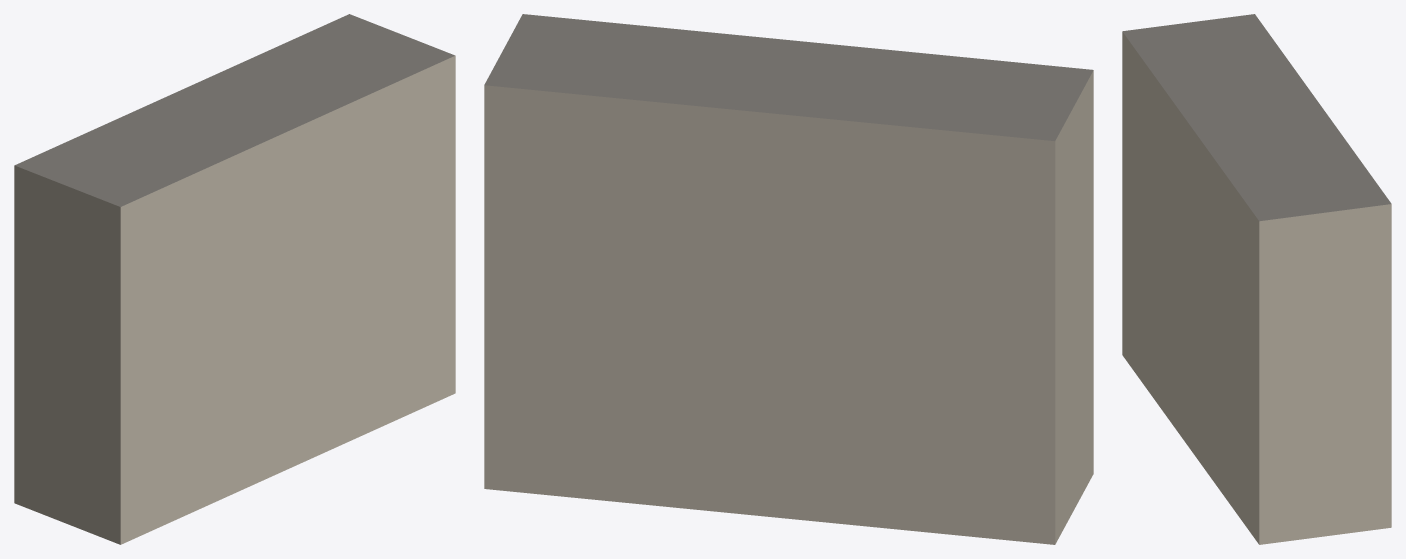
The picture shows the model from 3 angles, left to right: view 1: azimuth 30°, elevation 25°; view 2: azimuth 150°, elevation 25°; view 3: azimuth 270°, elevation 25°; orthographic projection. The views are drawn at different scales.
Parts seen in each view (by area): view 1: HP-w1217015639; view 2: HP-w1217015639; view 3: HP-w1217015639.
Boxes of the visible parts, left/top/right/bottom form: HP-w1217015639: left=14, top=14, right=455, bottom=544; HP-w1217015639: left=484, top=14, right=1093, bottom=544; HP-w1217015639: left=1122, top=14, right=1391, bottom=544.
Bounding box in the file's own units: 24.72 × 18 × 13.58.
